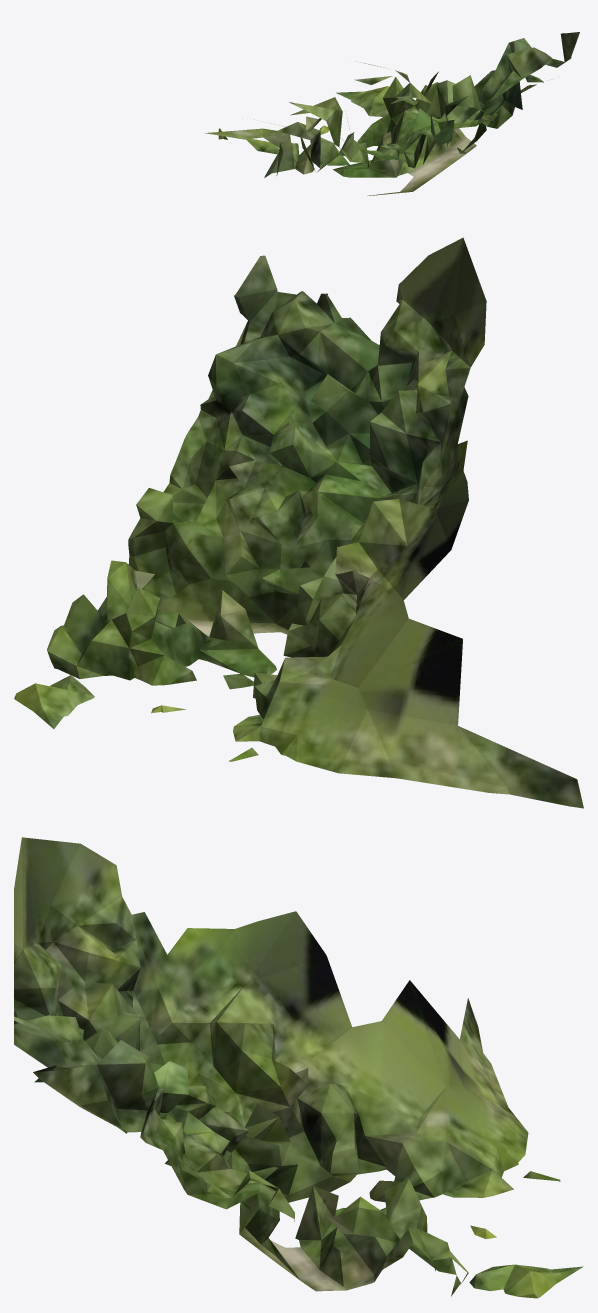
The picture shows the model from 3 angles, top to bottom: view 1: azimuth 30°, elevation 25°; view 2: azimuth 150°, elevation 25°; view 3: azimuth 270°, elevation 25°; orthographic projection. The views are drawn at different scales.
Bounding box in the file's own units: 120 × 71 × 104.
1 material, 1 textured.
